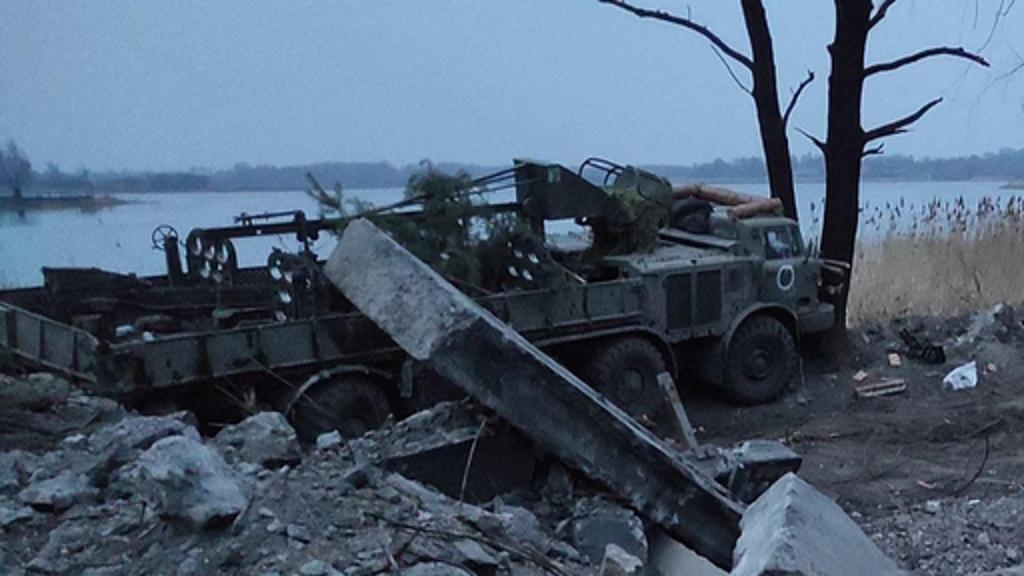TRUCK: (0, 170, 842, 490)
